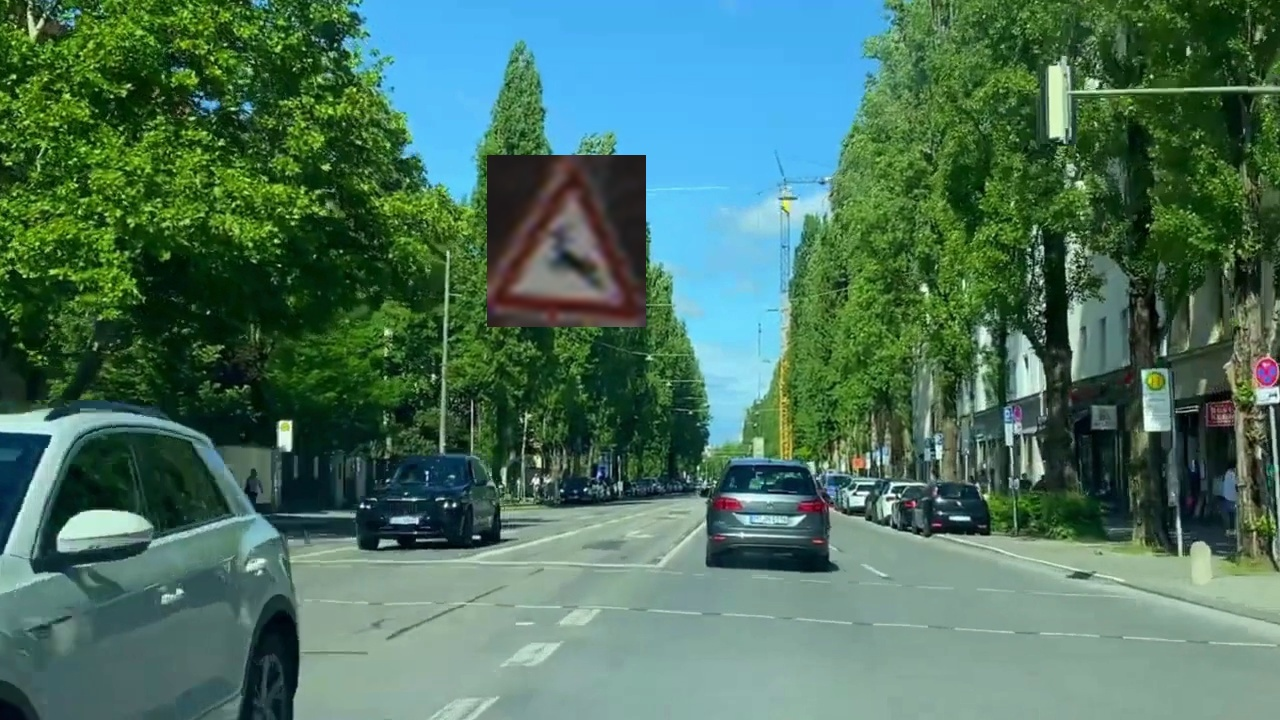Wild animals: (487, 155, 646, 327)
